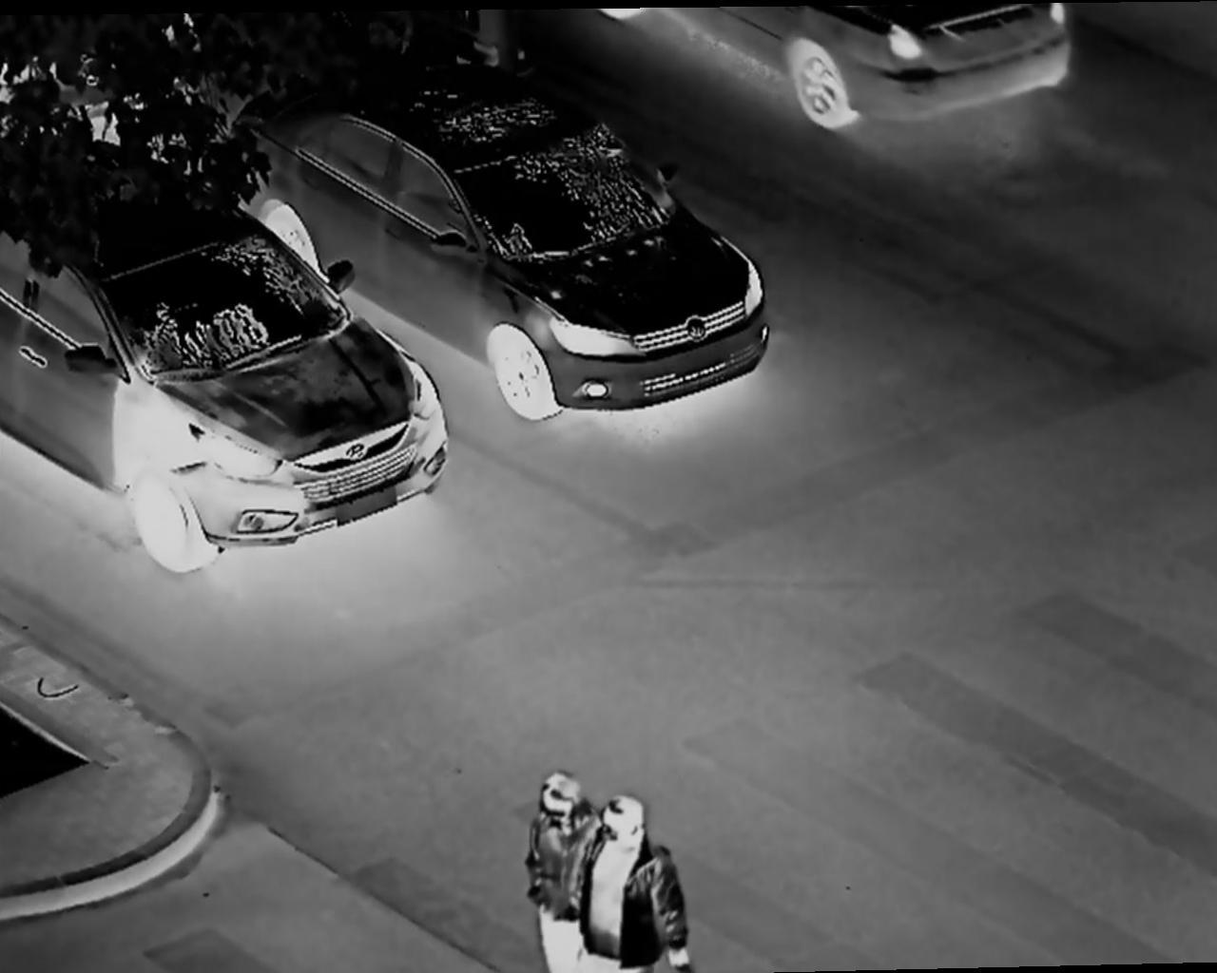person: (585, 792, 693, 973), (525, 758, 592, 973)
